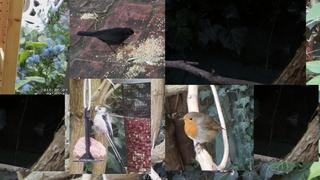blackbird: (76, 27, 138, 55)
long tailed tit: (91, 105, 124, 167)
robin: (179, 112, 227, 154)
